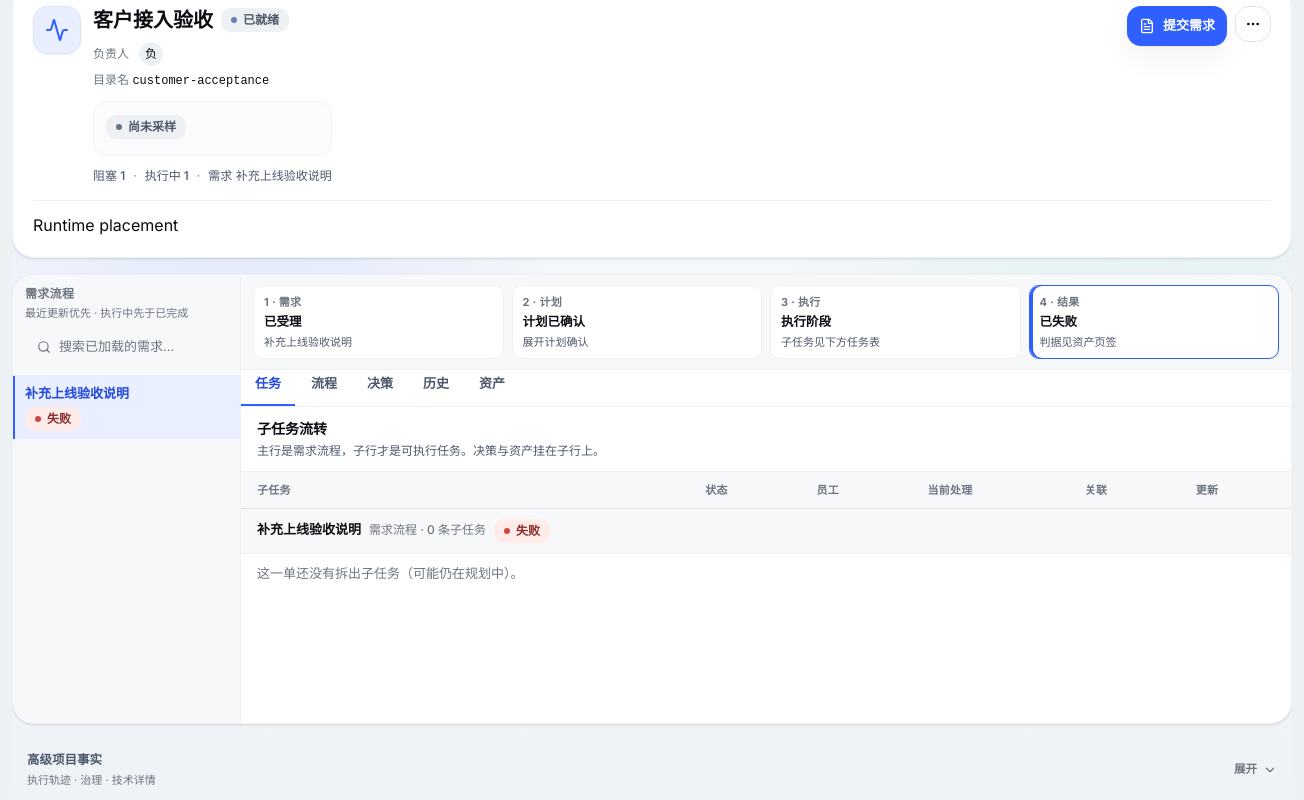
Scenario: ProjectOperationalDetail › shows a diagnosis line and gap deep link for a failed demand
(page scrolled)
Click the button with aria-label "展开高级项目事实" at (65, 760), box left=13, top=741, right=1291, bottom=799
(page scrolled)
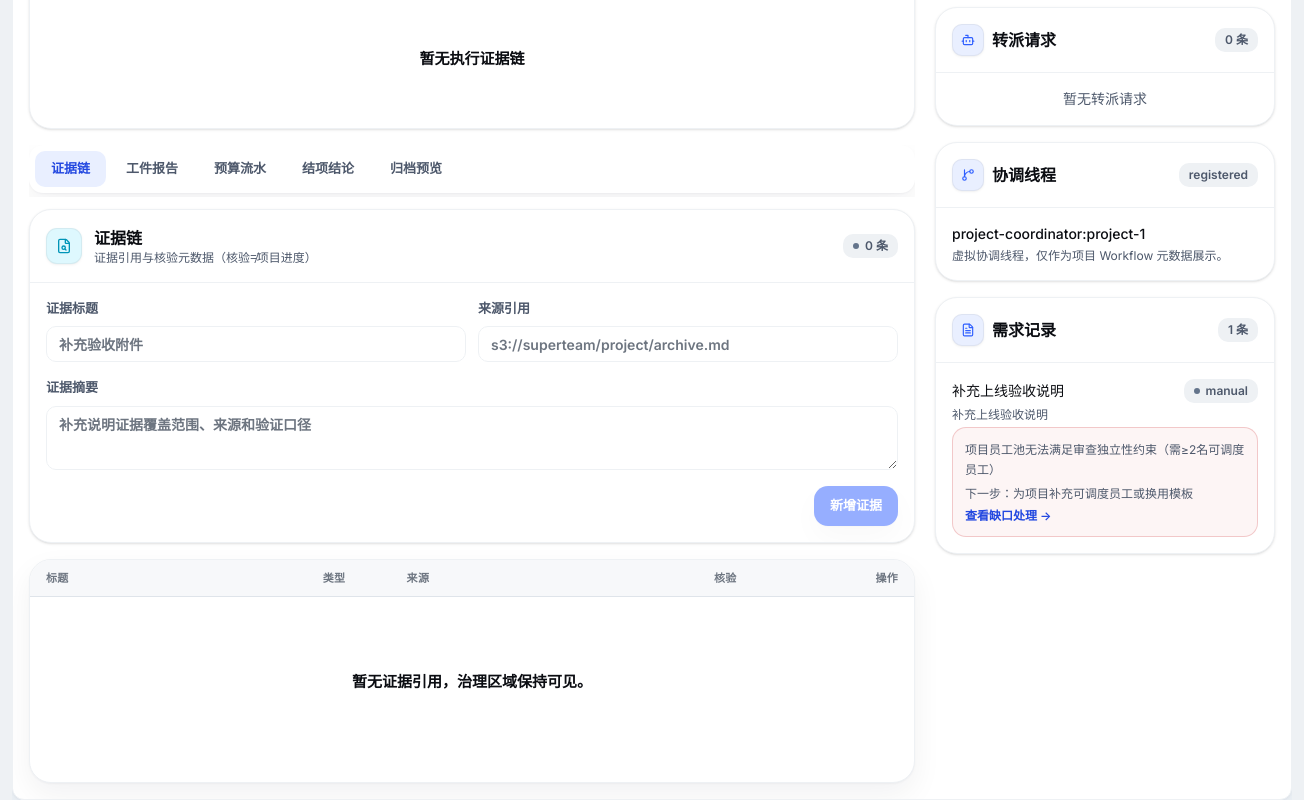
Check: the text "项目员工池无法满足审查独立性约束（需≥2名可调度员工）" is shown, box left=965, top=440, right=1245, bottom=480
Check: the text "下一步：为项目补充可调度员工或换用模板" is shown, box left=965, top=486, right=1193, bottom=501
